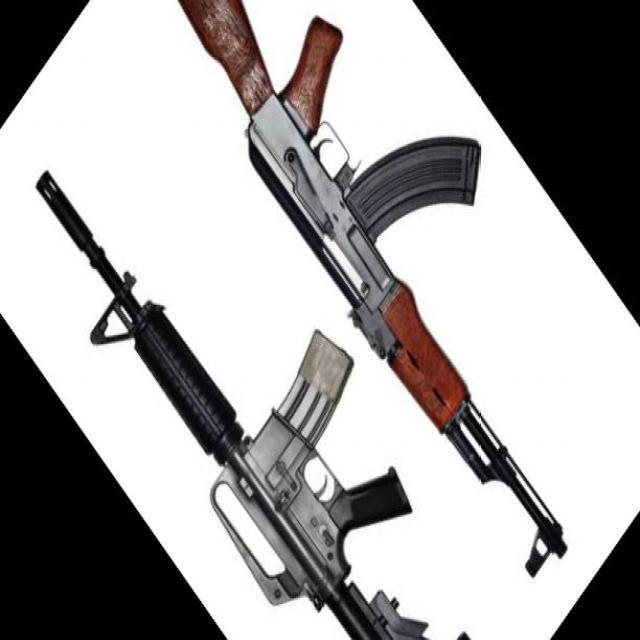weapon: (173, 0, 569, 580), (34, 168, 473, 640)
